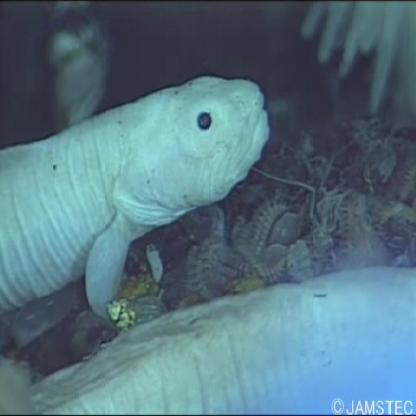Bio: (1, 70, 273, 322)
